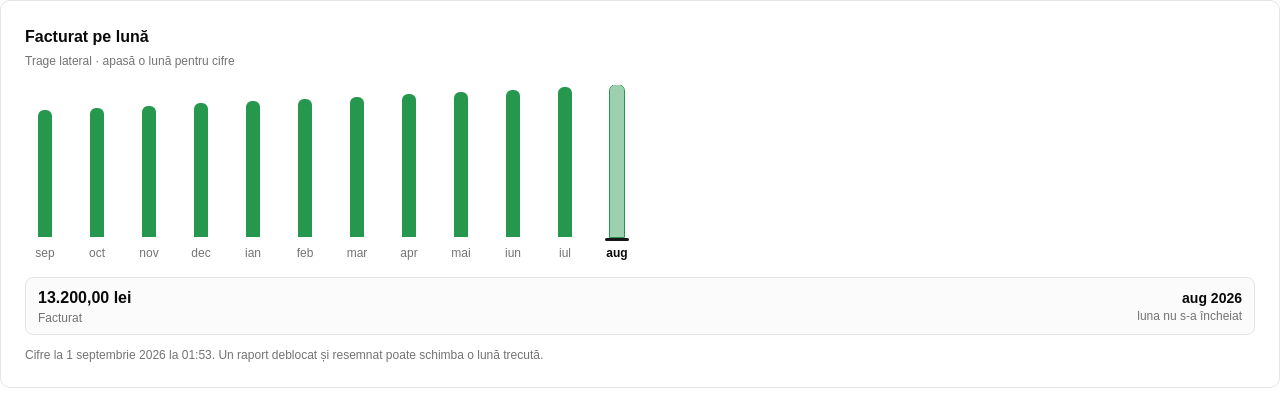
Test: BilledHistoryChartMobile › tapping another bar moves the band to that month, still one figure
The image size is (1280, 405).
Click the button with aria-label "ian 2026: 11.800,00 lei facturat" at (253, 161), box [233, 85, 273, 237]
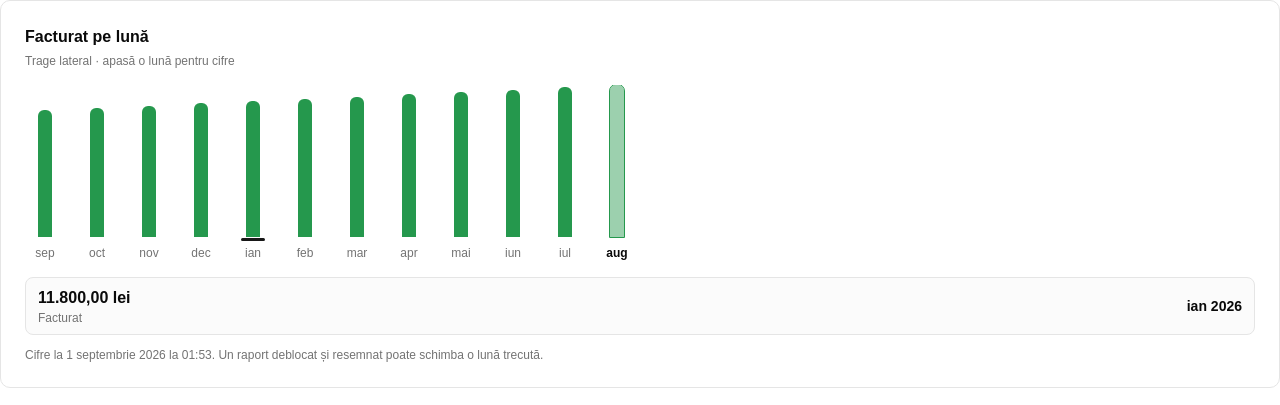
Expected: the text "11.800,00 lei" is shown, [38, 286, 130, 310]
Expected: the text "ian 2026" is shown, [1187, 296, 1242, 316]
Expected: the text "luna nu s-a încheiat" is gone
